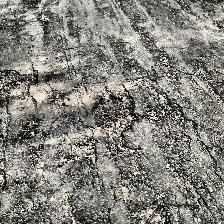pothole: (88, 89, 138, 137), (130, 201, 170, 223), (0, 68, 30, 96)
